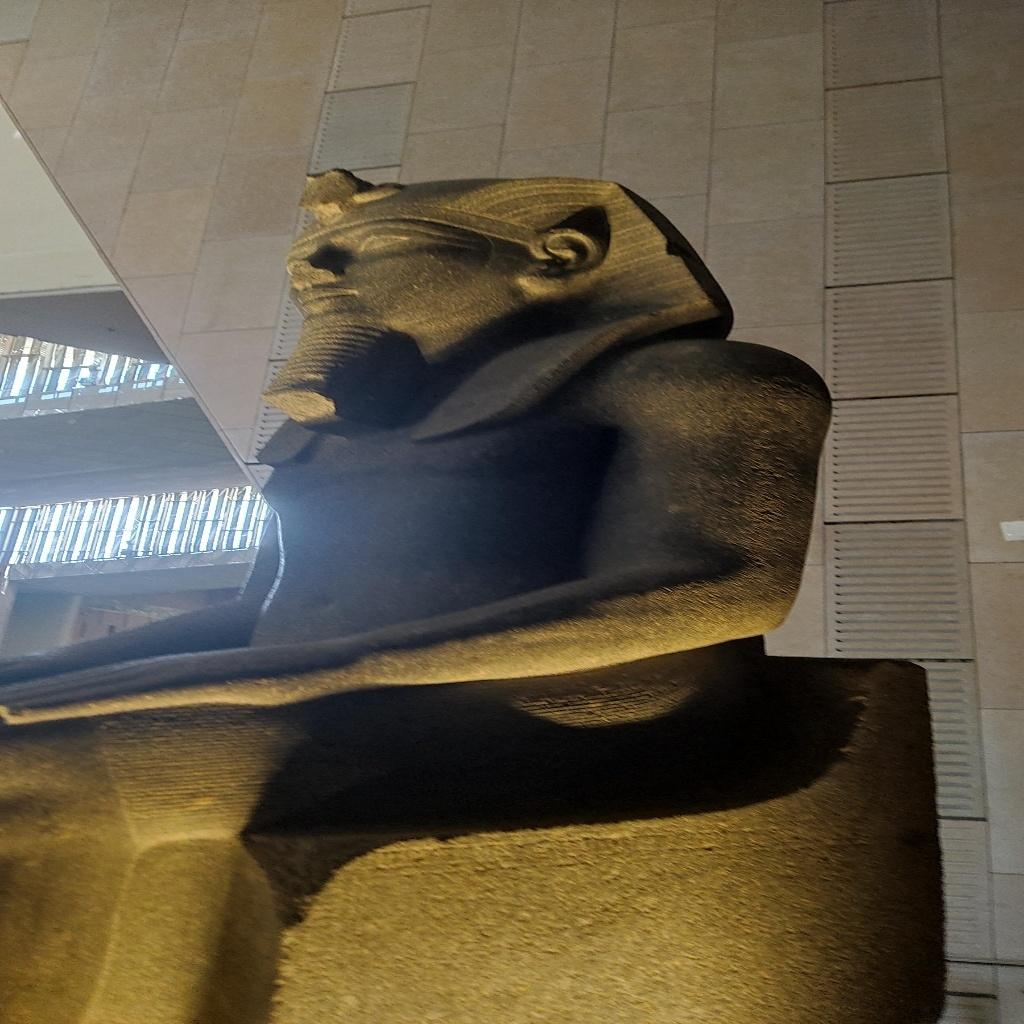Seated Statue of Amenhotep III: (10, 164, 942, 1018)
